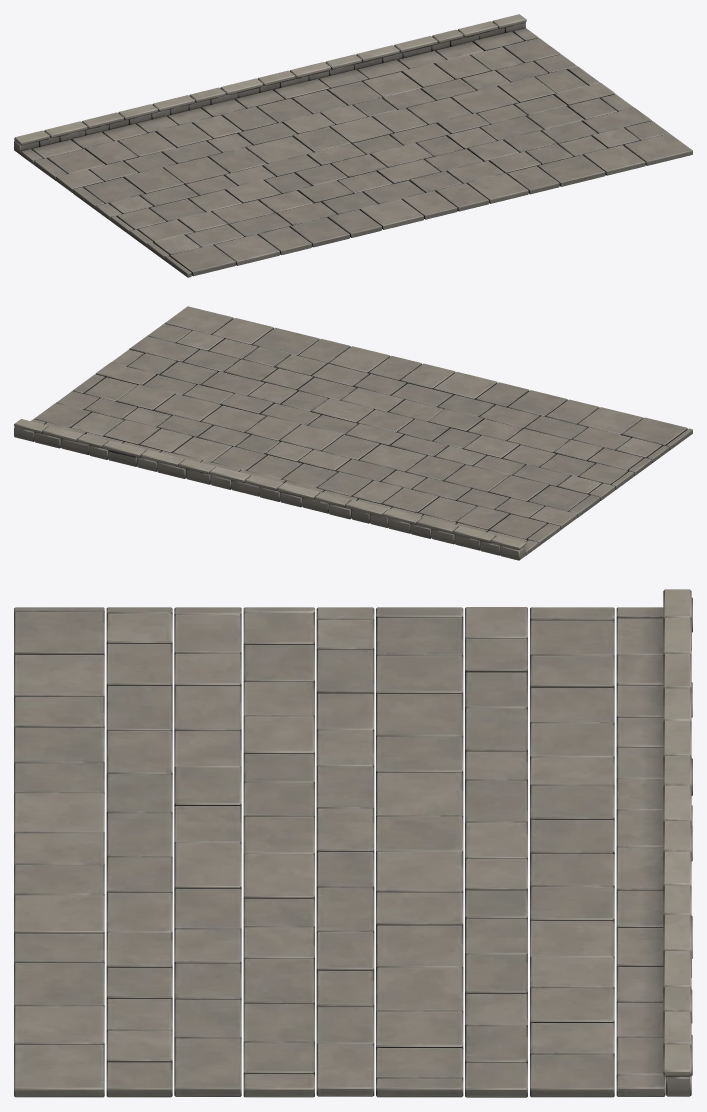
Rendered from skirt_court.glb.
3 renders of one model, top to bottom at view 1: azimuth 30°, elevation 25°; view 2: azimuth 150°, elevation 25°; view 3: azimuth 270°, elevation 25°, orthographic. The views are drawn at different scales.
Visible parts, largest first — view 1: skirt_court_body; view 2: skirt_court_body; view 3: skirt_court_body.
Boxes of the visible parts, left/top/right/bottom form: skirt_court_body: left=14, top=14, right=692, bottom=277; skirt_court_body: left=14, top=306, right=692, bottom=560; skirt_court_body: left=14, top=589, right=692, bottom=1097.
Bounding box in the file's own units: 21.99 × 0.5958 × 13.1.
1 material, 1 textured.
